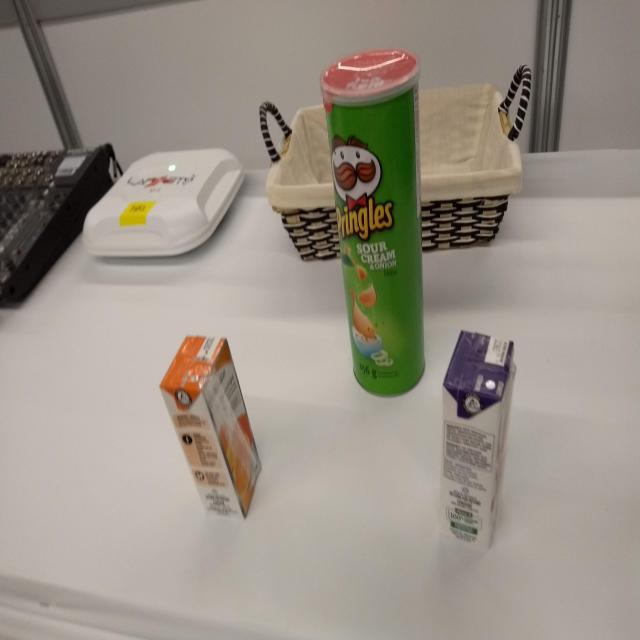grape_juice: (437, 323, 516, 556)
orange_juice: (151, 331, 266, 525)
pringles: (318, 45, 428, 399)
